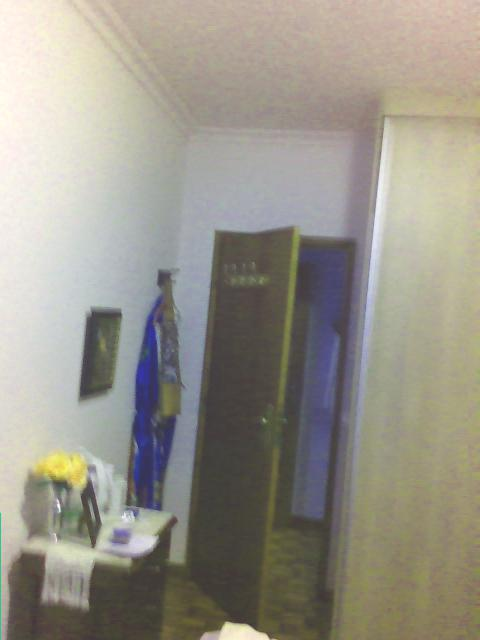semi_door: (183, 221, 360, 639)
